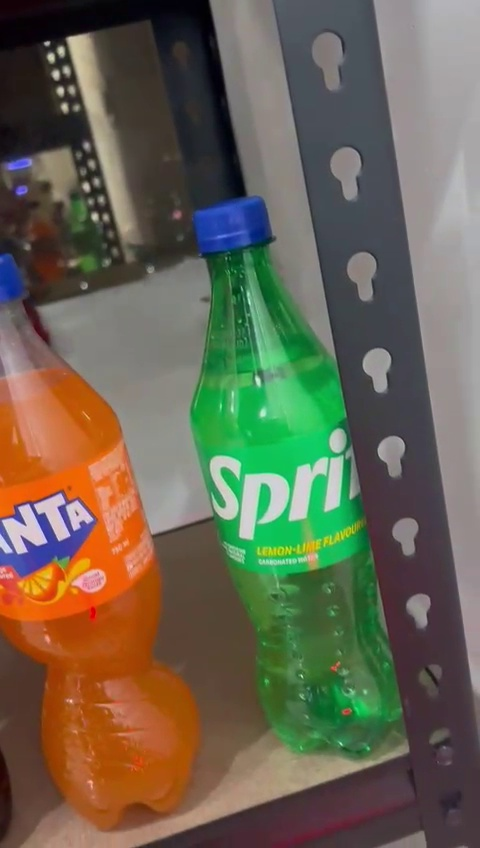Sprit: (184, 204, 401, 753)
